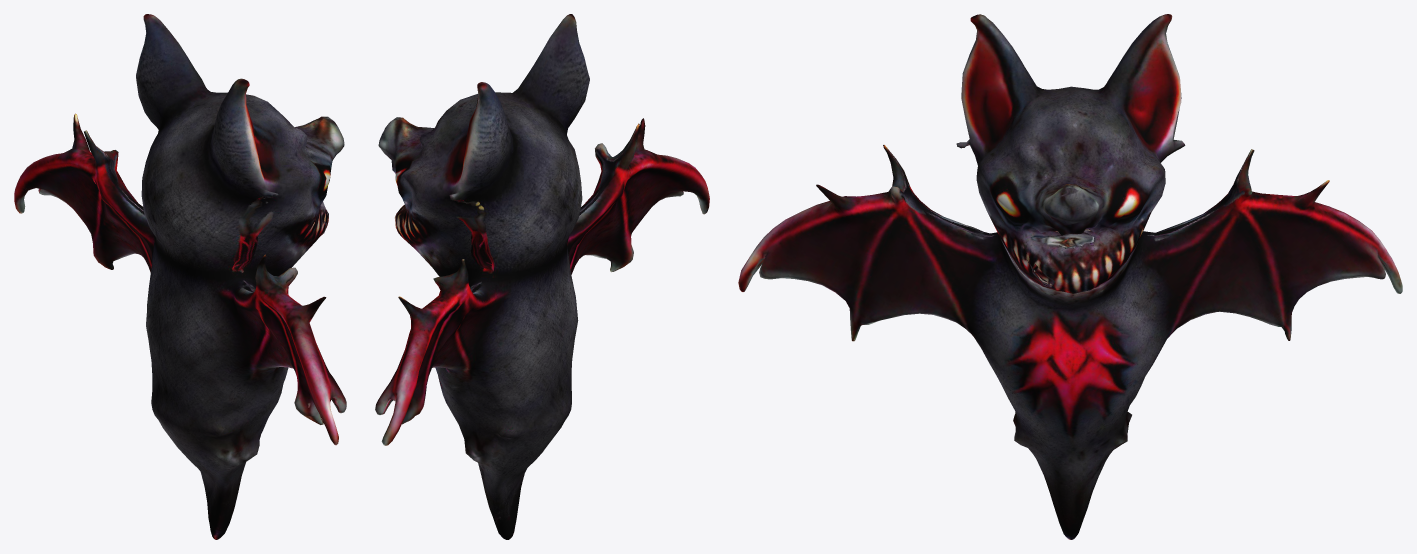
File: 5fb8de5e4230_cdfac3a6ac17_evil_scary_horror_v.glb
3 views of the same model, side by side, from view 1: azimuth 30°, elevation 25°; view 2: azimuth 150°, elevation 25°; view 3: azimuth 270°, elevation 25° (orthographic). The views are drawn at different scales.
Visible parts, largest first — view 1: mesh; view 2: mesh; view 3: mesh.
Part boxes in pixels (<box>): mesh: <box>14,14,346,539</box>; mesh: <box>375,14,709,539</box>; mesh: <box>738,14,1402,539</box>.
Bounding box in the file's own units: 0.3293 × 0.8529 × 0.9964.
Materials: 1 (1 with a texture image).
